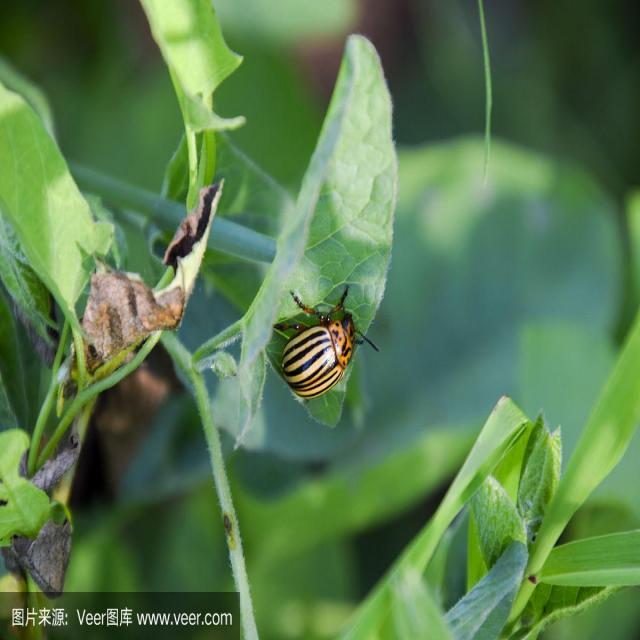ShuCaiHuaBanChong-Grown-: (273, 302, 365, 416)
